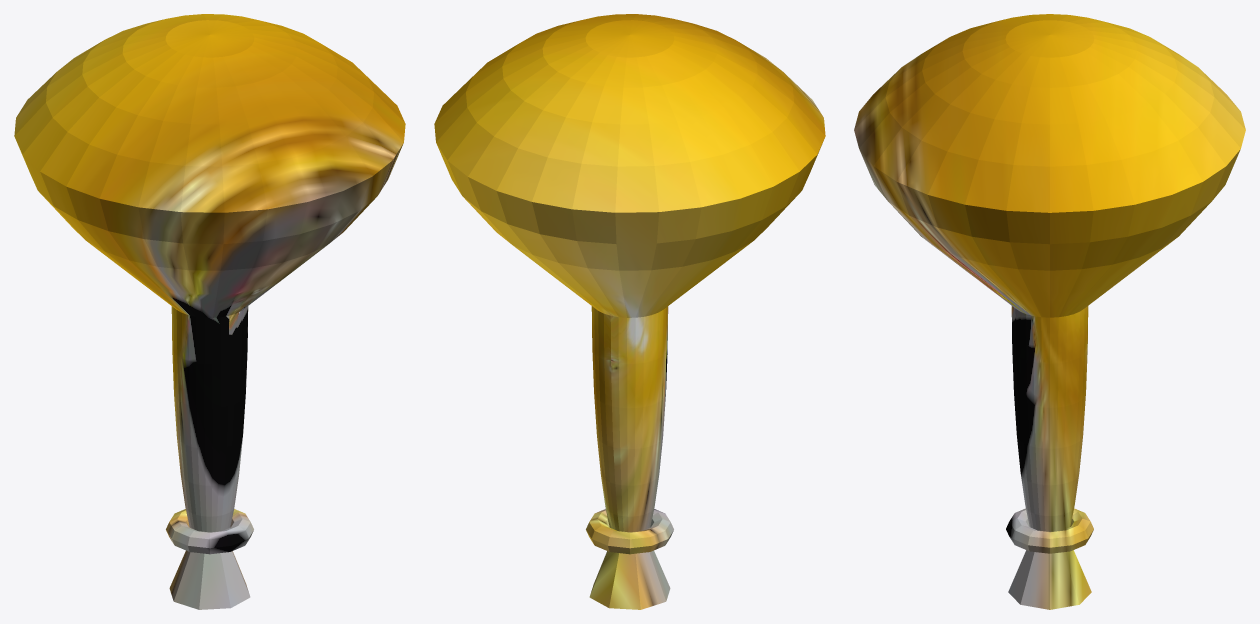
File: bloon_yellow.glb
3 renders of one model, left to right at view 1: azimuth 30°, elevation 25°; view 2: azimuth 150°, elevation 25°; view 3: azimuth 270°, elevation 25°, orthographic.
Parts seen in each view (by area): view 1: bloon_yellow; view 2: bloon_yellow; view 3: bloon_yellow.
Part boxes in pixels (x1,y1,x2,y2): bloon_yellow: [14, 14, 405, 609]; bloon_yellow: [434, 14, 825, 609]; bloon_yellow: [854, 14, 1245, 609].
Bounding box in the file's own units: 0.7965 × 1.25 × 0.7965.
1 material, 1 textured.
